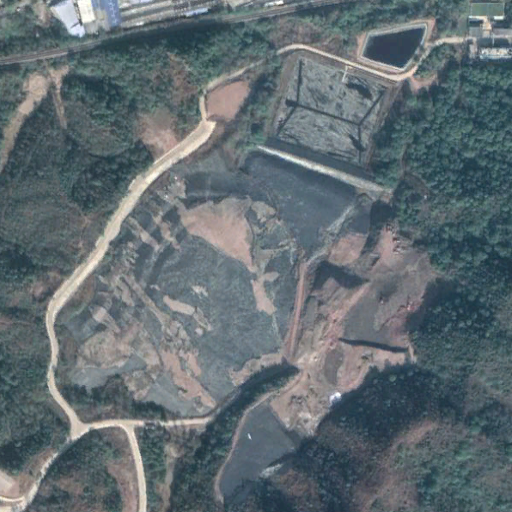lf: (54, 145, 389, 504)
